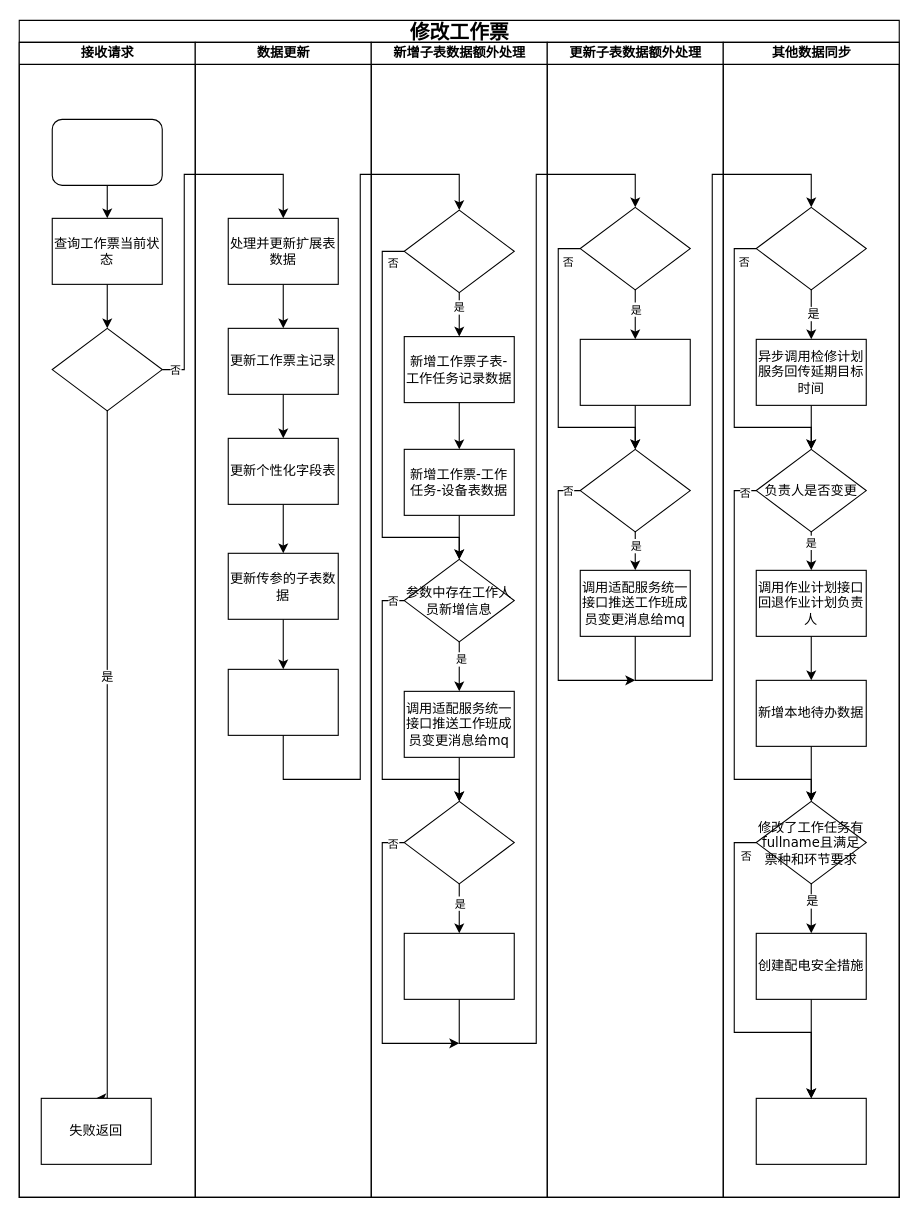
Some shapes in this 919 by 1217 pixel diagram are drawn without their labels. Each missing label, with the box of its shape:
先删除再新增工作票-工作任务-设备表数据: (579, 338, 690, 405)
删除传参的子表数据: (227, 668, 338, 735)
参数中存在安全措施新增信息: (403, 800, 514, 884)
参数中存在工作人员变更信息: (579, 448, 690, 532)
参数中存在工作内容变更信息: (579, 206, 690, 290)
参数中存在工作内容新增信息: (403, 209, 514, 293)
开始: (51, 118, 162, 185)
成功返回: (755, 1097, 866, 1164)
新增工作票-安全措施关联表: (403, 932, 514, 999)
是否延期时间: (755, 206, 866, 290)
请求参数中票状态 不为空且与当前票状态不一致: (51, 327, 162, 411)
